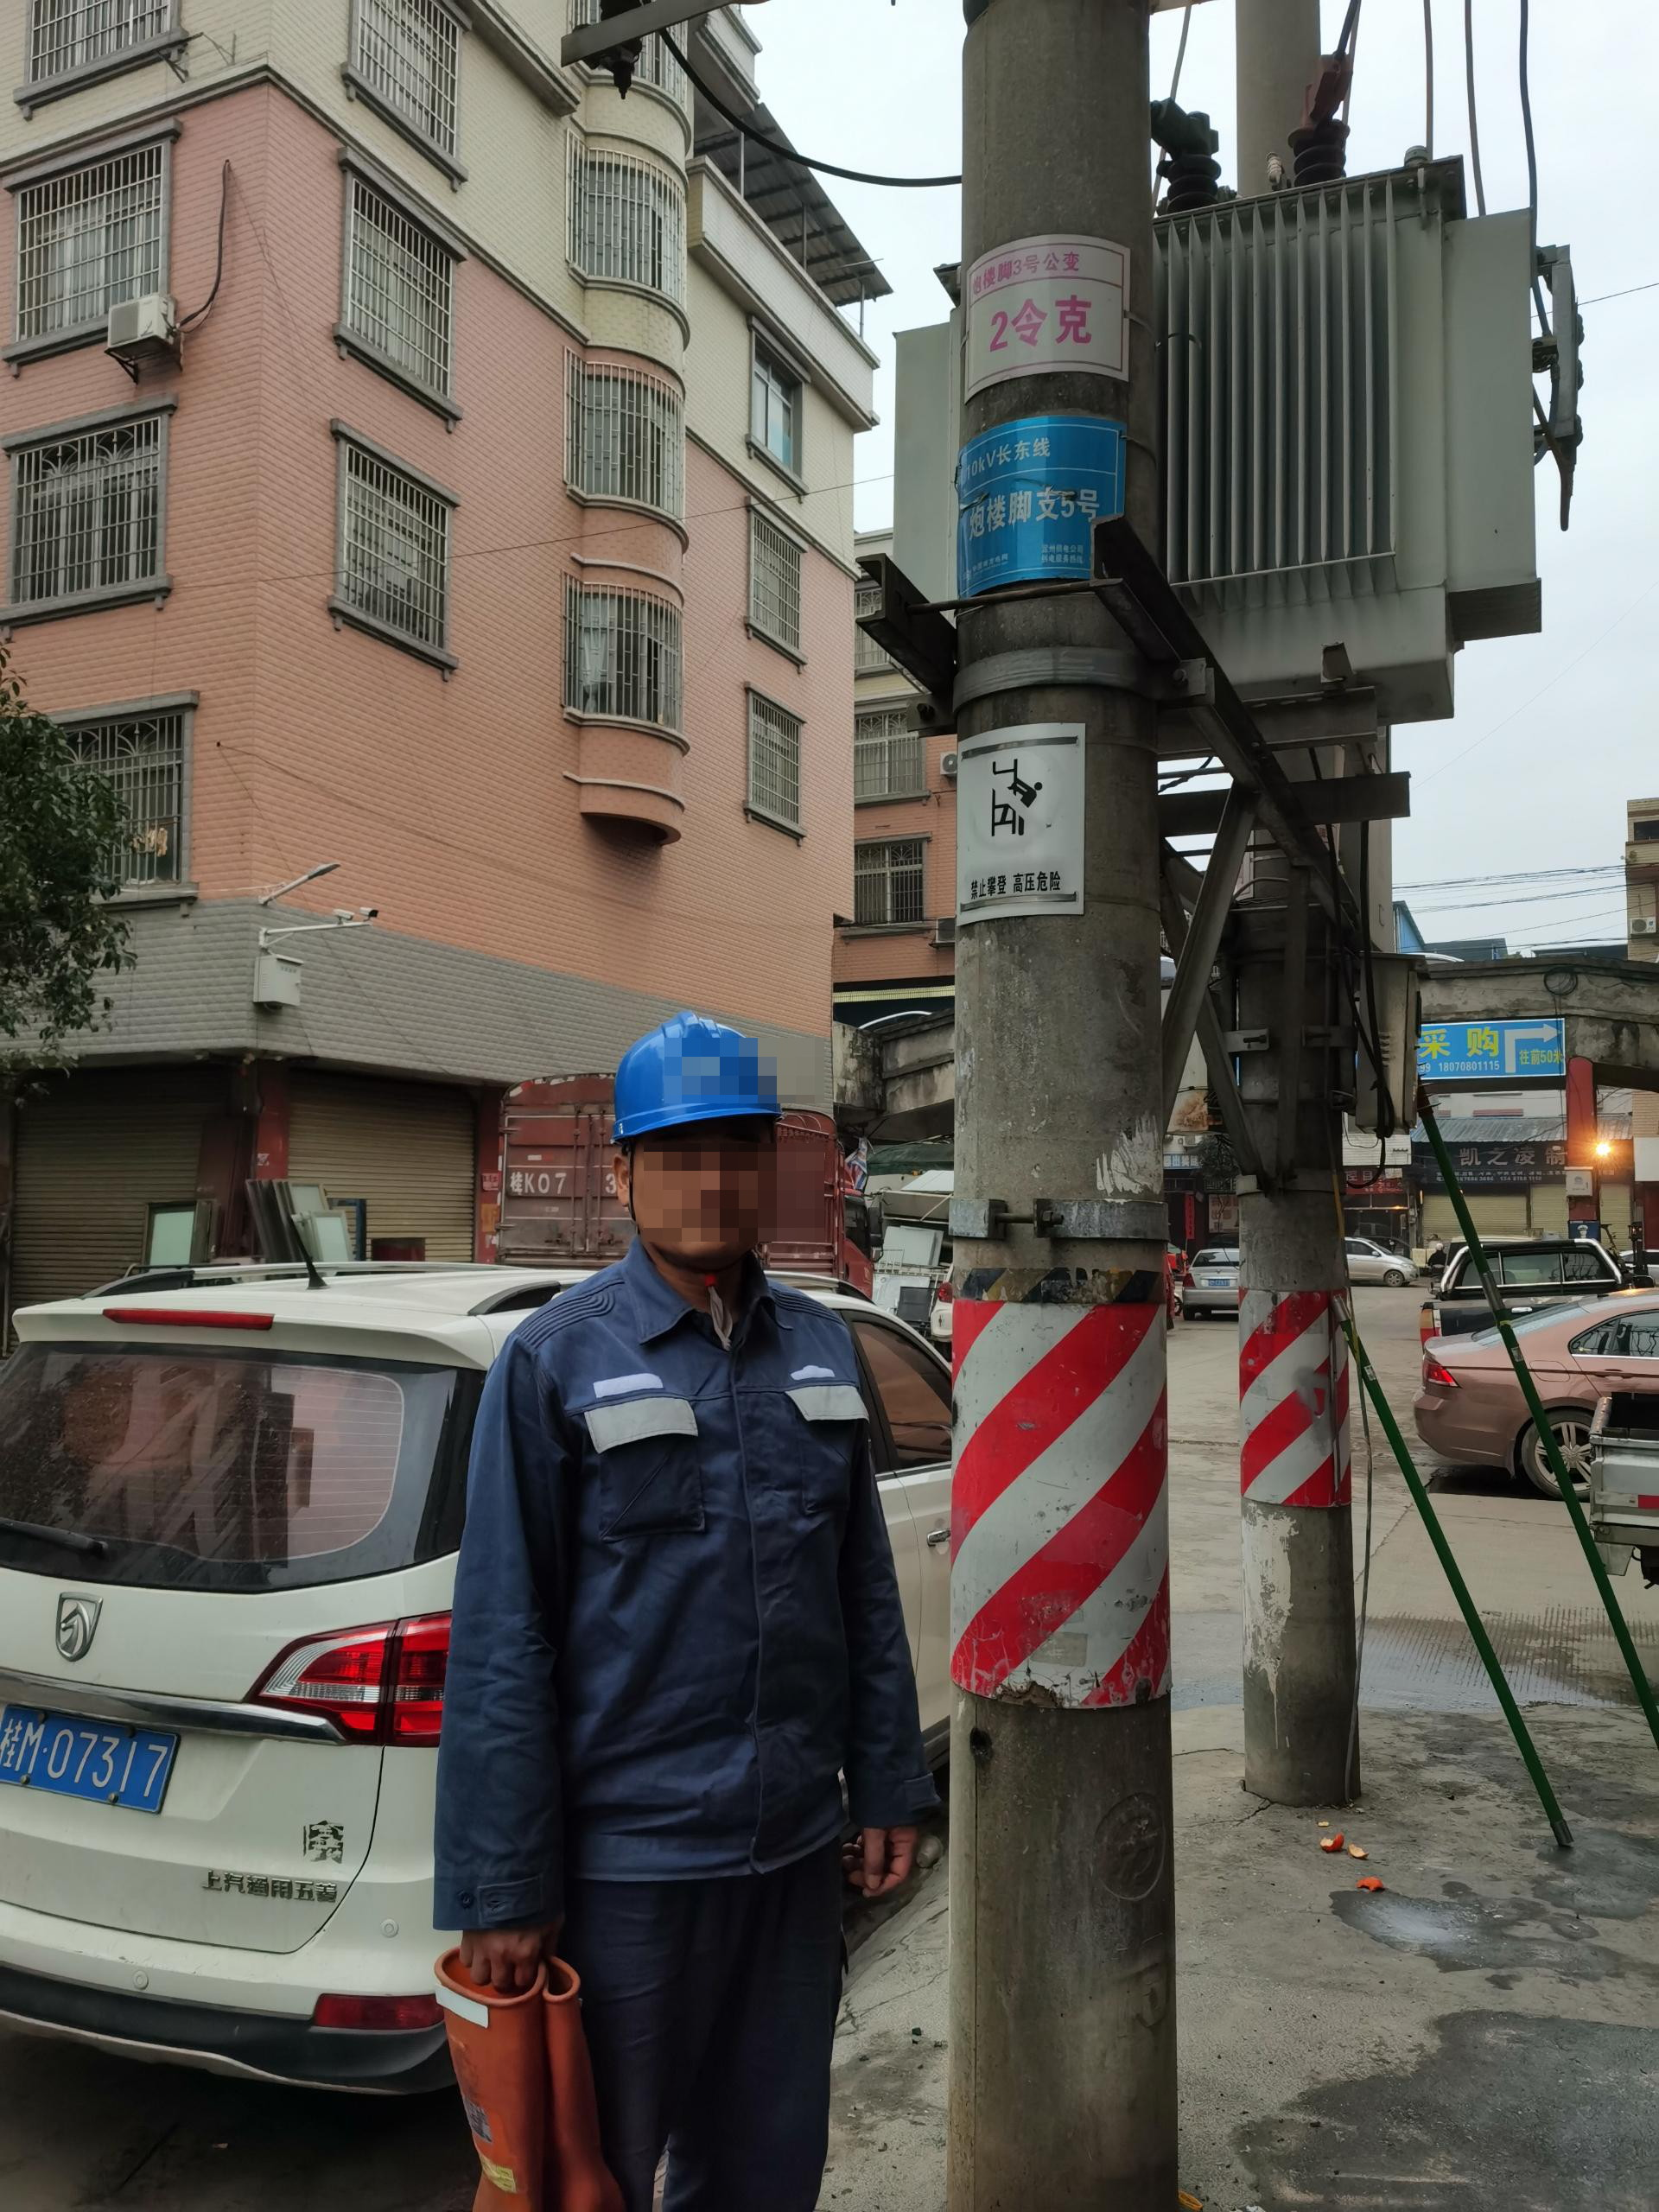downsuit: (561, 1891, 866, 2212)
halt: (606, 1014, 790, 1257)
hand: (817, 1805, 934, 1893), (459, 1906, 543, 1985)
person: (414, 1013, 947, 2212)
upsuit: (423, 1249, 930, 1891)
